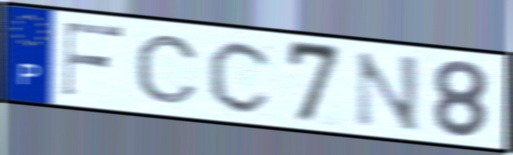7: (284, 37, 345, 126)
8: (431, 58, 491, 139)
C: (206, 37, 277, 116), (133, 32, 202, 106)
F: (59, 20, 127, 99)
N: (352, 49, 422, 135)
